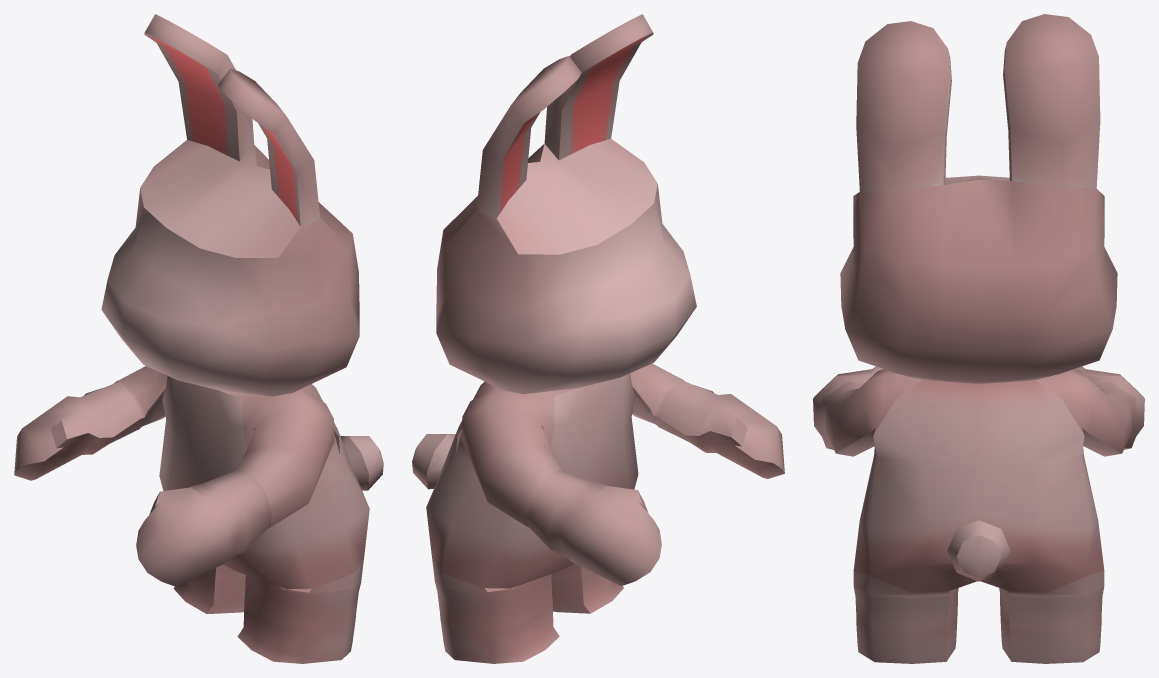
3 renders of one model, left to right at view 1: azimuth 30°, elevation 25°; view 2: azimuth 150°, elevation 25°; view 3: azimuth 270°, elevation 25°, orthographic.
Visible parts, largest first — view 1: Rb_R_S1; view 2: Rb_R_S1; view 3: Rb_R_S1.
Boxes of the visible parts, left/top/right/bottom form: Rb_R_S1: left=14, top=14, right=383, bottom=663; Rb_R_S1: left=412, top=14, right=784, bottom=663; Rb_R_S1: left=813, top=14, right=1144, bottom=663.
Bounding box in the file's own units: 4.42 × 8.3 × 4.16.
